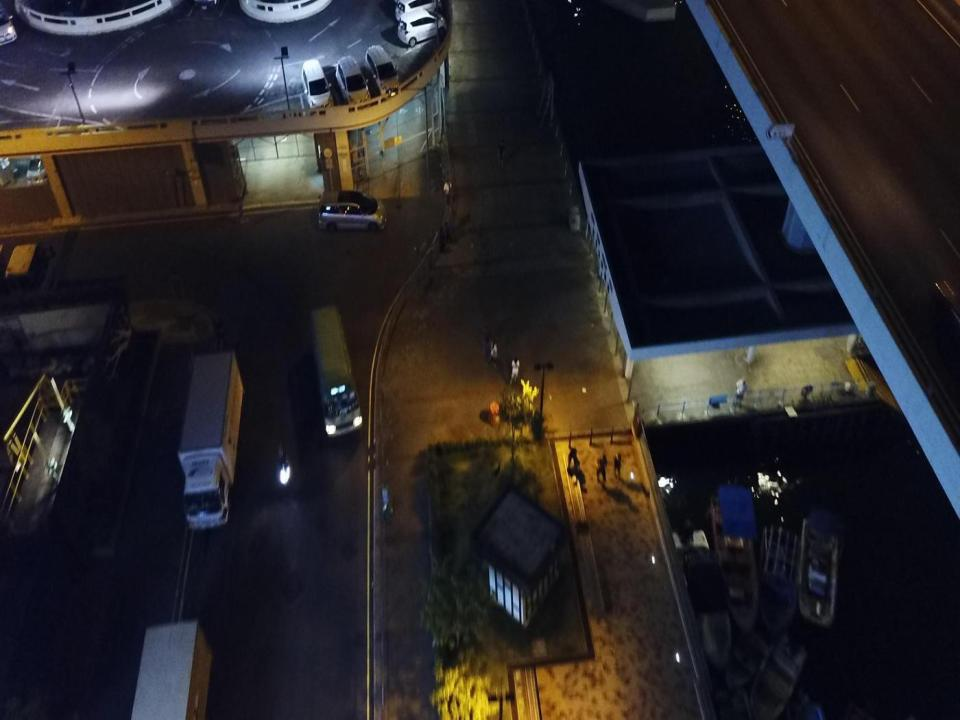bus: (305, 304, 366, 442)
car: (397, 8, 447, 46), (365, 44, 400, 98), (336, 56, 371, 109), (301, 60, 334, 112), (395, 0, 443, 25)
truck: (178, 349, 246, 532), (127, 620, 212, 719)
van: (318, 187, 388, 234), (27, 112, 53, 195)
